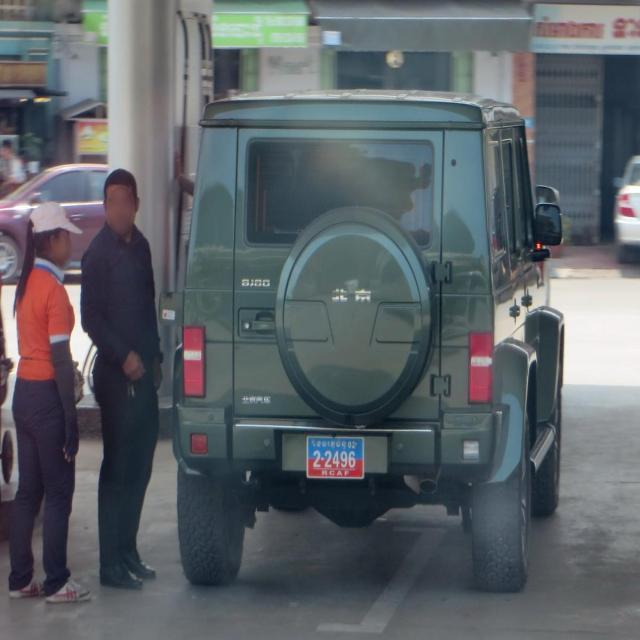RCAF: (312, 439, 348, 450)
